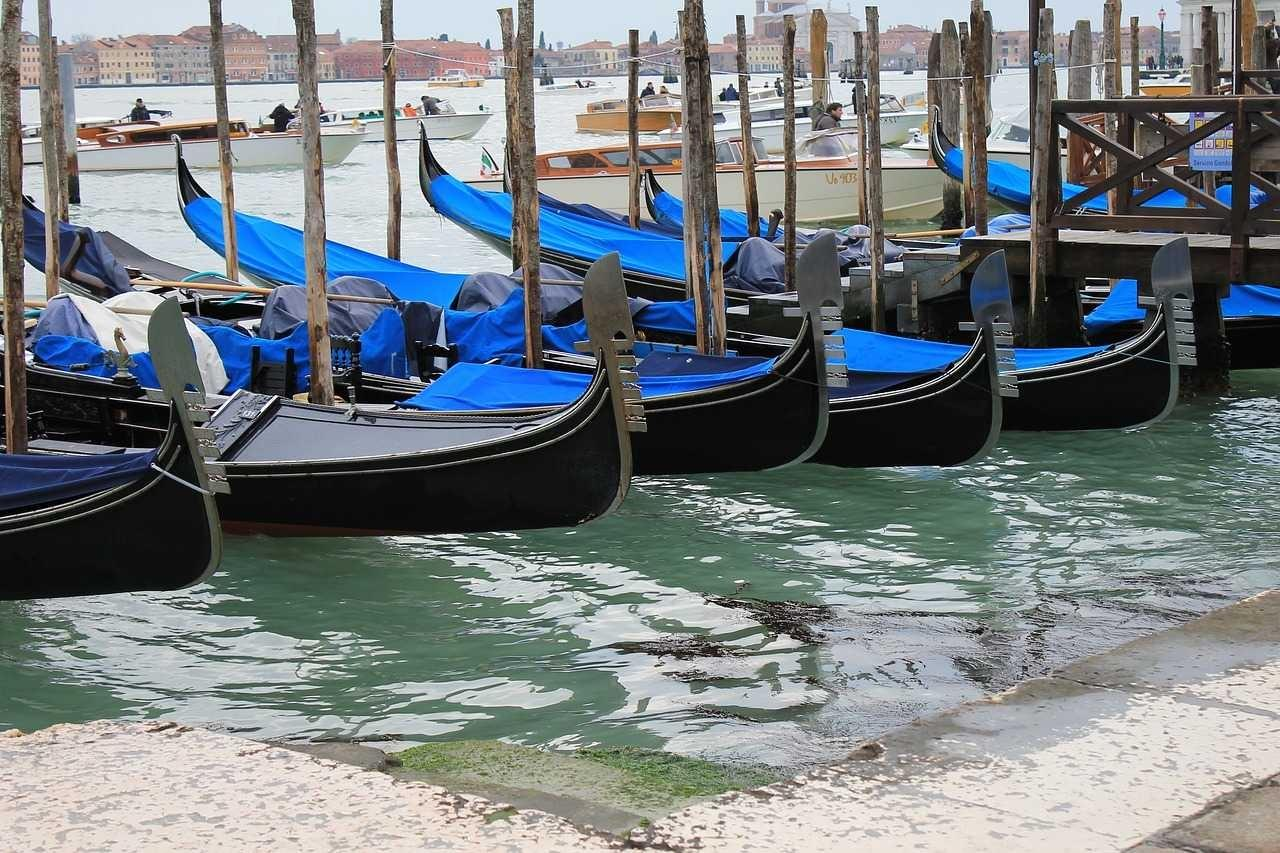kayak: (170, 145, 926, 474), (426, 132, 1196, 438), (26, 263, 641, 535), (705, 222, 1194, 433), (416, 122, 774, 296), (1, 360, 230, 600), (931, 100, 1277, 213), (709, 129, 945, 225), (74, 122, 365, 173), (931, 105, 1039, 209), (221, 126, 366, 171), (1219, 282, 1280, 366), (340, 111, 492, 142), (576, 100, 683, 135), (1140, 69, 1192, 95)
